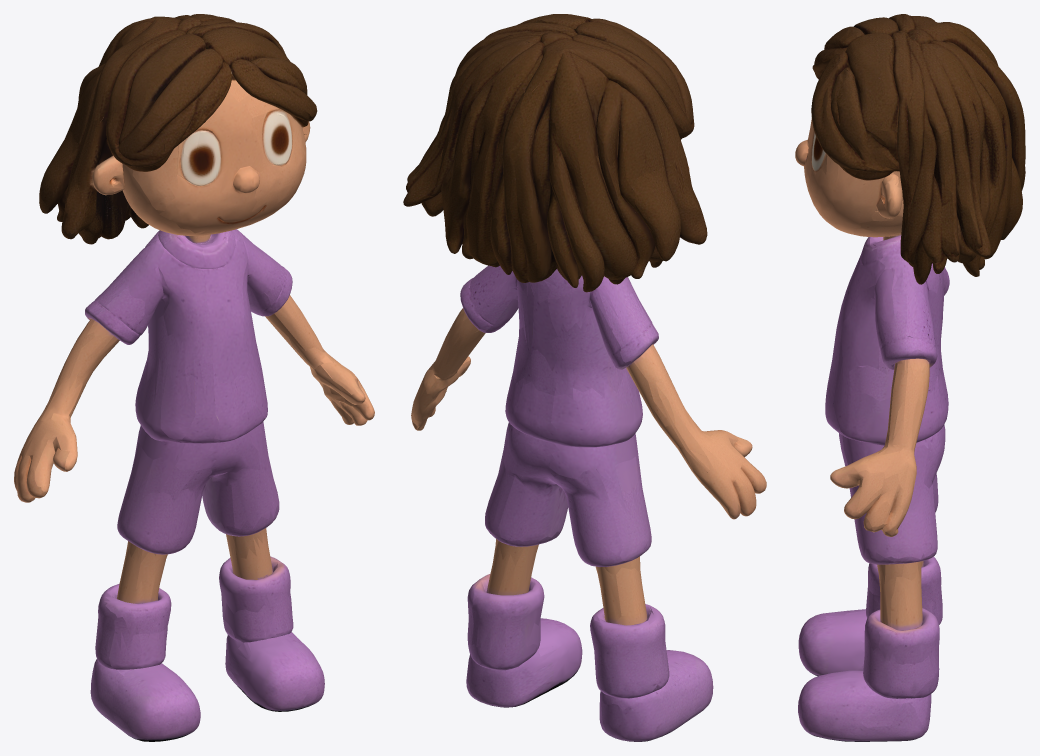
Rendered from A2-clay-tee.glb.
The picture shows the model from 3 angles, left to right: view 1: azimuth 30°, elevation 25°; view 2: azimuth 150°, elevation 25°; view 3: azimuth 270°, elevation 25°; orthographic projection. The views are drawn at different scales.
Parts seen in each view (by area): view 1: Mesh_0; view 2: Mesh_0; view 3: Mesh_0.
Part boxes in pixels (box(x1,y1,x2,y2)): Mesh_0: box(14, 14, 374, 741); Mesh_0: box(403, 14, 766, 741); Mesh_0: box(795, 14, 1025, 741).
Bounding box in the file's own units: 1 × 1.9 × 0.5915.
Materials: 1 (1 with a texture image).
